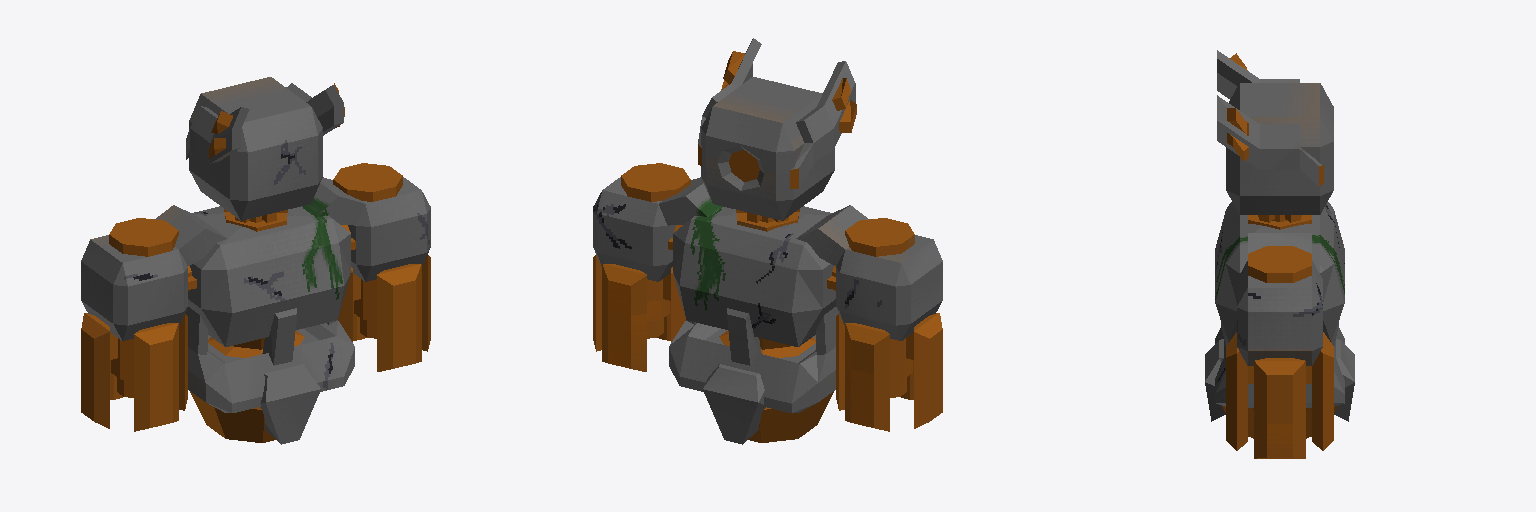
The picture shows the model from 3 angles: view 1: azimuth 30°, elevation 25°; view 2: azimuth 150°, elevation 25°; view 3: azimuth 270°, elevation 25°; orthographic projection.
Parts seen in each view (by area): view 1: beveled_cuboid, cylinder, sphere; view 2: beveled_cuboid, cylinder, sphere; view 3: beveled_cuboid, cylinder.
Boxes of the visible parts, box(x1,y1,x2,y2) form: beveled_cuboid: box(81, 77, 430, 444); cylinder: box(81, 163, 430, 431); sphere: box(190, 331, 304, 442); beveled_cuboid: box(593, 38, 942, 444); cylinder: box(593, 163, 942, 431); sphere: box(719, 331, 833, 442); beveled_cuboid: box(1205, 50, 1354, 421); cylinder: box(1226, 215, 1333, 458).
Bounding box in the file's own units: 2.25 × 2.35 × 0.8696.
1 materials, 1 textured.